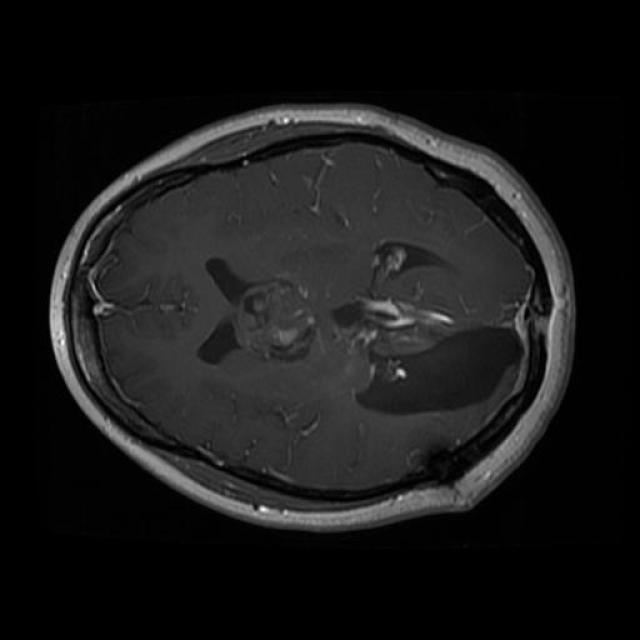Glioma: (359, 326, 521, 414)
